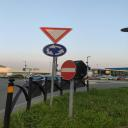preferencia: (38, 25, 74, 44)
